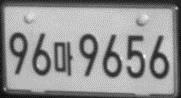5: (125, 34, 145, 78)
6: (148, 34, 170, 80), (101, 34, 122, 78), (32, 33, 51, 76)
9: (78, 33, 98, 78), (9, 32, 28, 75)
마: (53, 41, 73, 76)
